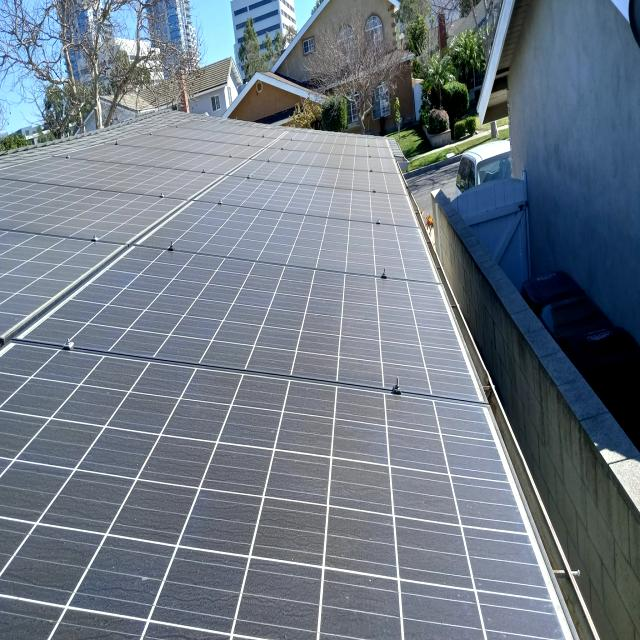dust: (60, 438, 272, 636), (293, 462, 498, 627), (281, 300, 452, 370), (284, 386, 440, 456), (145, 266, 260, 358), (32, 363, 182, 431), (328, 223, 420, 270), (212, 212, 310, 253), (77, 290, 139, 350), (49, 194, 132, 234), (11, 250, 60, 288)
